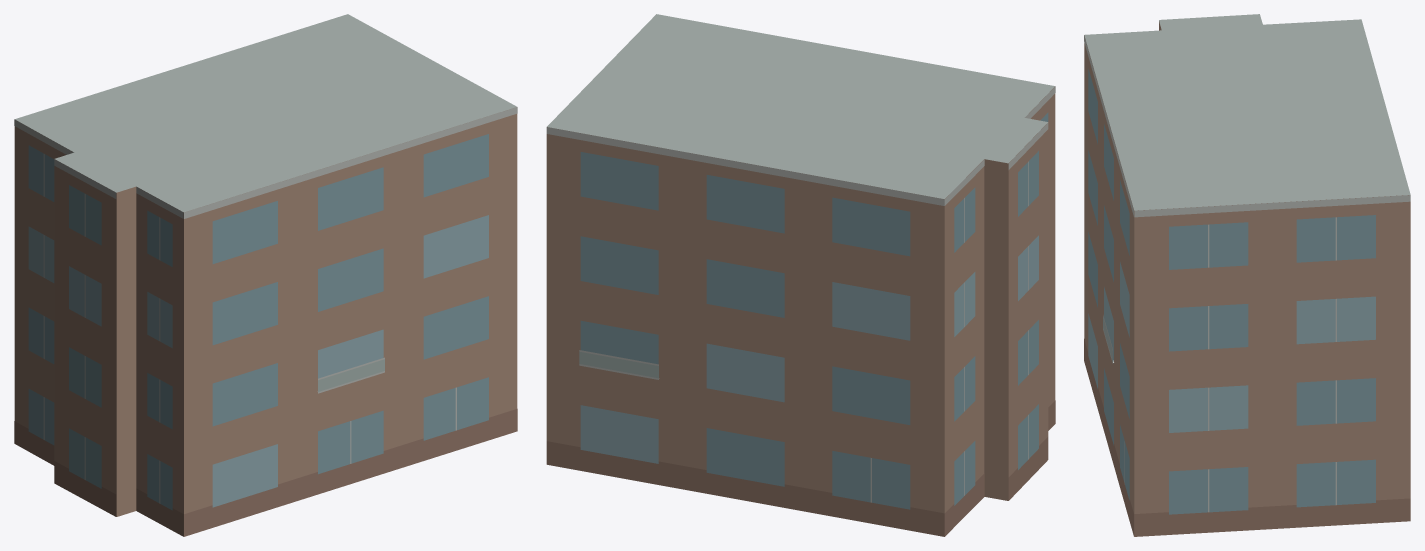
Rendered from survey-upis-32680339.glb.
The picture shows the model from 3 angles, left to right: view 1: azimuth 30°, elevation 25°; view 2: azimuth 150°, elevation 25°; view 3: azimuth 270°, elevation 25°; orthographic projection. The views are drawn at different scales.
Parts seen in each view (by area): view 1: survey-upis-32680339.tmp; view 2: survey-upis-32680339.tmp; view 3: survey-upis-32680339.tmp.
Part boxes in pixels (bbox=[...]): survey-upis-32680339.tmp: bbox=[14, 14, 517, 536]; survey-upis-32680339.tmp: bbox=[546, 14, 1055, 536]; survey-upis-32680339.tmp: bbox=[1084, 14, 1410, 536].
Size of the model in its own units: 15.26 by 11.8 by 10.71.
